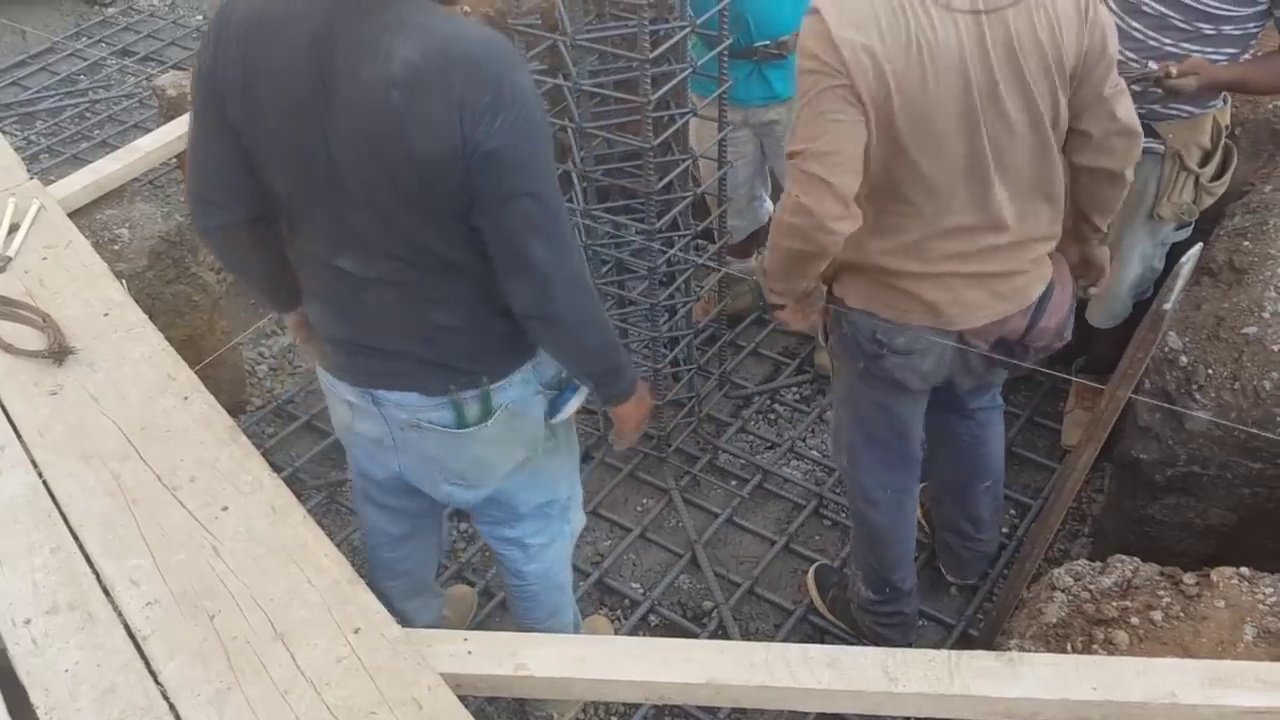person: (177, 0, 649, 639), (757, 1, 1143, 647), (1062, 0, 1280, 452), (678, 0, 808, 327)
